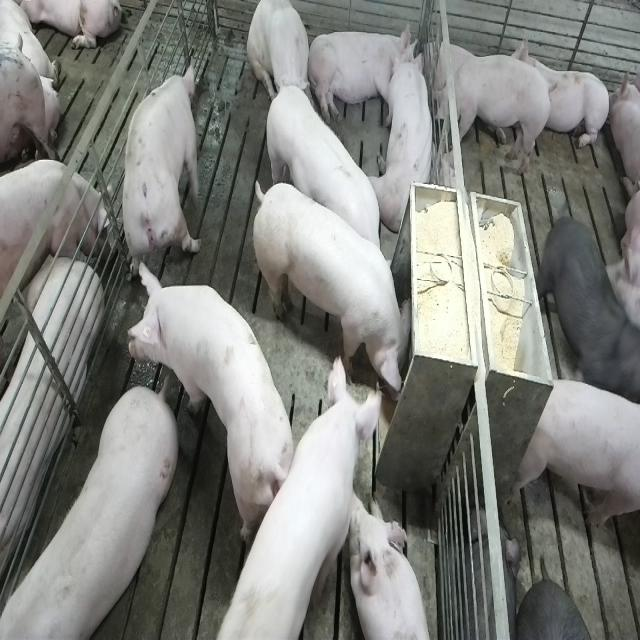Feeding: (190, 356, 386, 640), (255, 174, 419, 408)
Lateral_lying: (0, 223, 103, 593), (306, 20, 418, 126)
Sitting: (247, 1, 314, 116)
Standing: (128, 265, 300, 546), (0, 383, 176, 640), (262, 80, 389, 278), (512, 375, 639, 539), (538, 216, 638, 416), (121, 60, 204, 283), (426, 49, 554, 182), (0, 161, 107, 303)
Sternal_lying: (350, 492, 434, 640), (374, 44, 438, 233), (516, 31, 610, 154)
